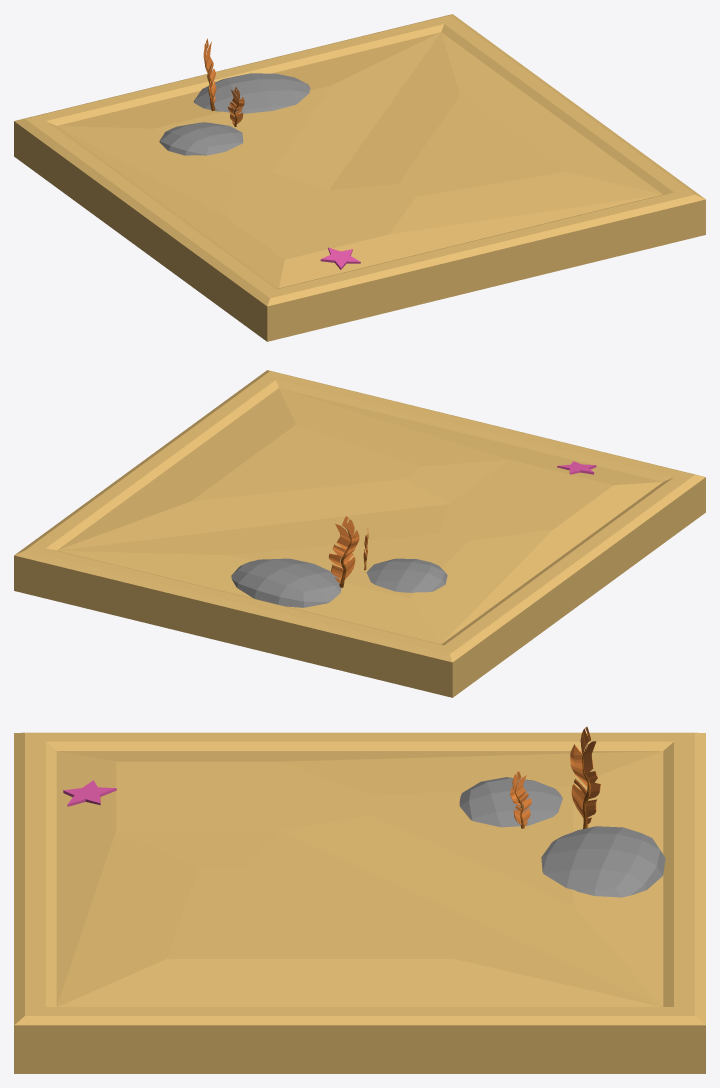
The model's file is block_2.glb.
3 renders of one model, top to bottom at view 1: azimuth 30°, elevation 25°; view 2: azimuth 150°, elevation 25°; view 3: azimuth 270°, elevation 25°, orthographic. The views are drawn at different scales.
Parts seen in each view (by area): view 1: Cube; view 2: Cube; view 3: Cube.
Boxes of the visible parts, x1,y1,x2,y2 form: Cube: [14, 14, 705, 341]; Cube: [14, 370, 705, 697]; Cube: [14, 726, 705, 1073].
Bounding box in the file's own units: 12 × 3.22 × 12.
